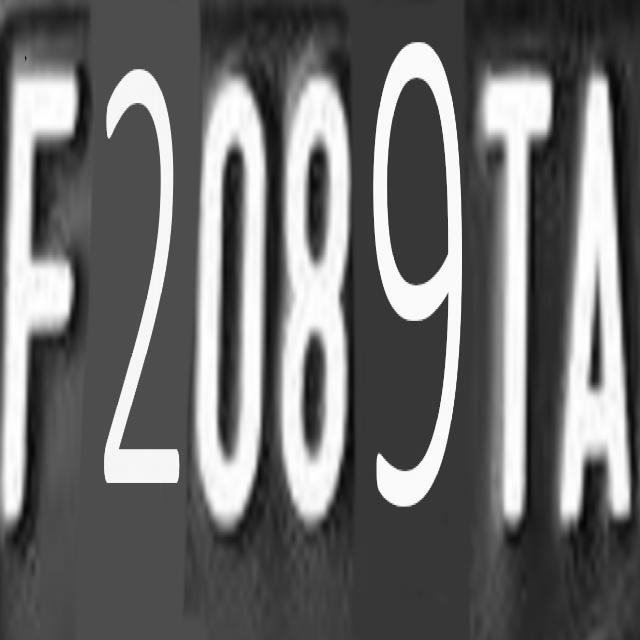0: (203, 60, 265, 540)
2: (103, 43, 185, 492)
8: (278, 60, 356, 532)
9: (363, 33, 469, 506)
A: (563, 50, 631, 532)
F: (5, 48, 89, 544)
T: (473, 48, 557, 550)
